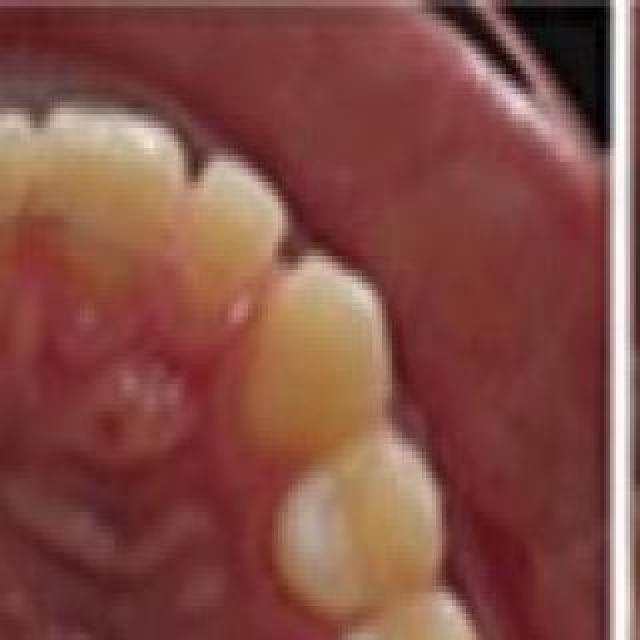spacing: (145, 120, 225, 260), (249, 222, 345, 332)
